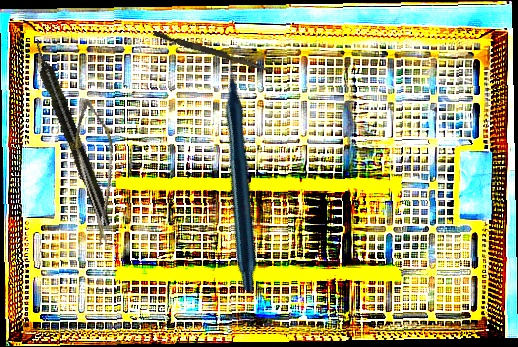Handpiece: (128, 44, 360, 294), (28, 37, 115, 229)
Micro Scissor: (54, 95, 143, 248)
Pusher: (152, 30, 276, 74)
